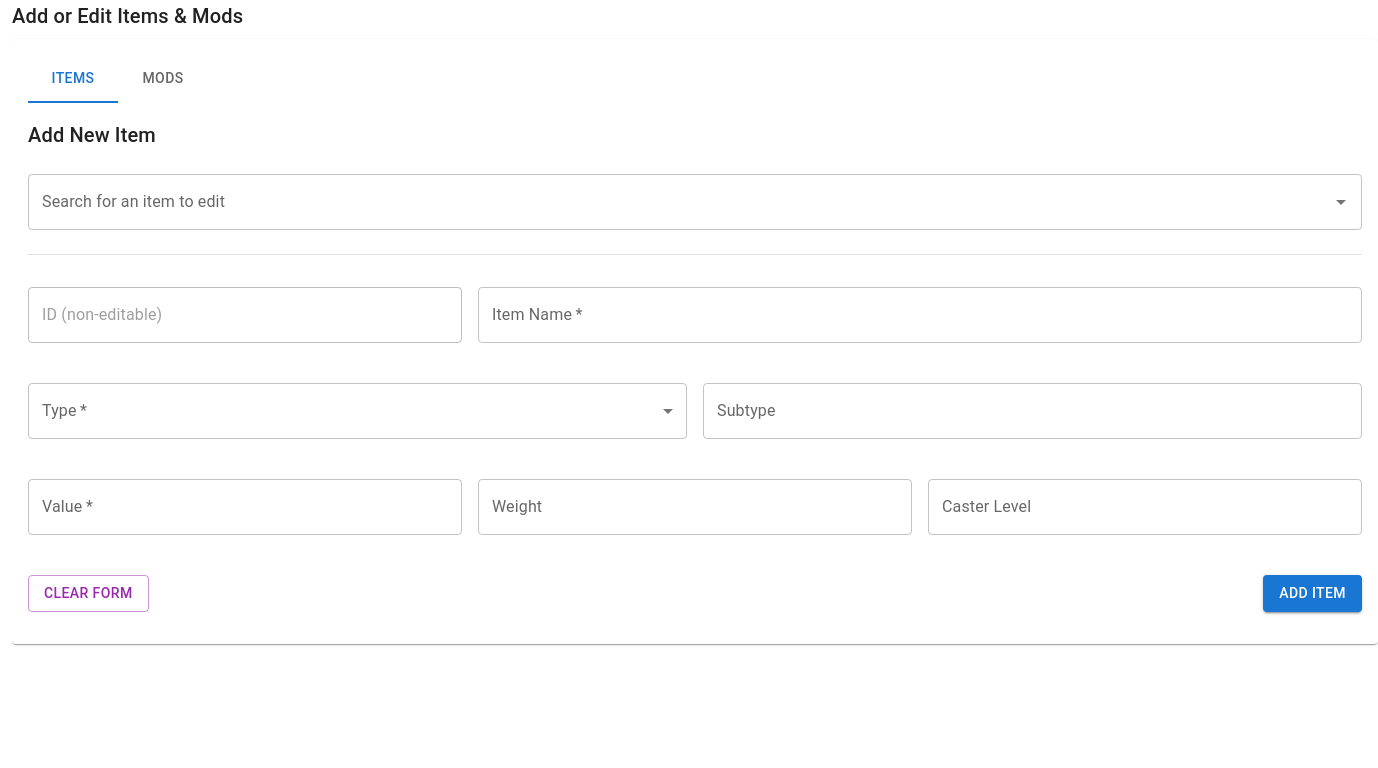
Test case: AddItemMod › Items tab - validation › shows "Item type is required" when type is blank
The image size is (1378, 768).
Expected: the heading "Add New Item" is shown, [28, 123, 156, 147]
Type "Brand New Sword" into the field labelled "Item Name *" at (920, 315), box [478, 287, 1362, 343]
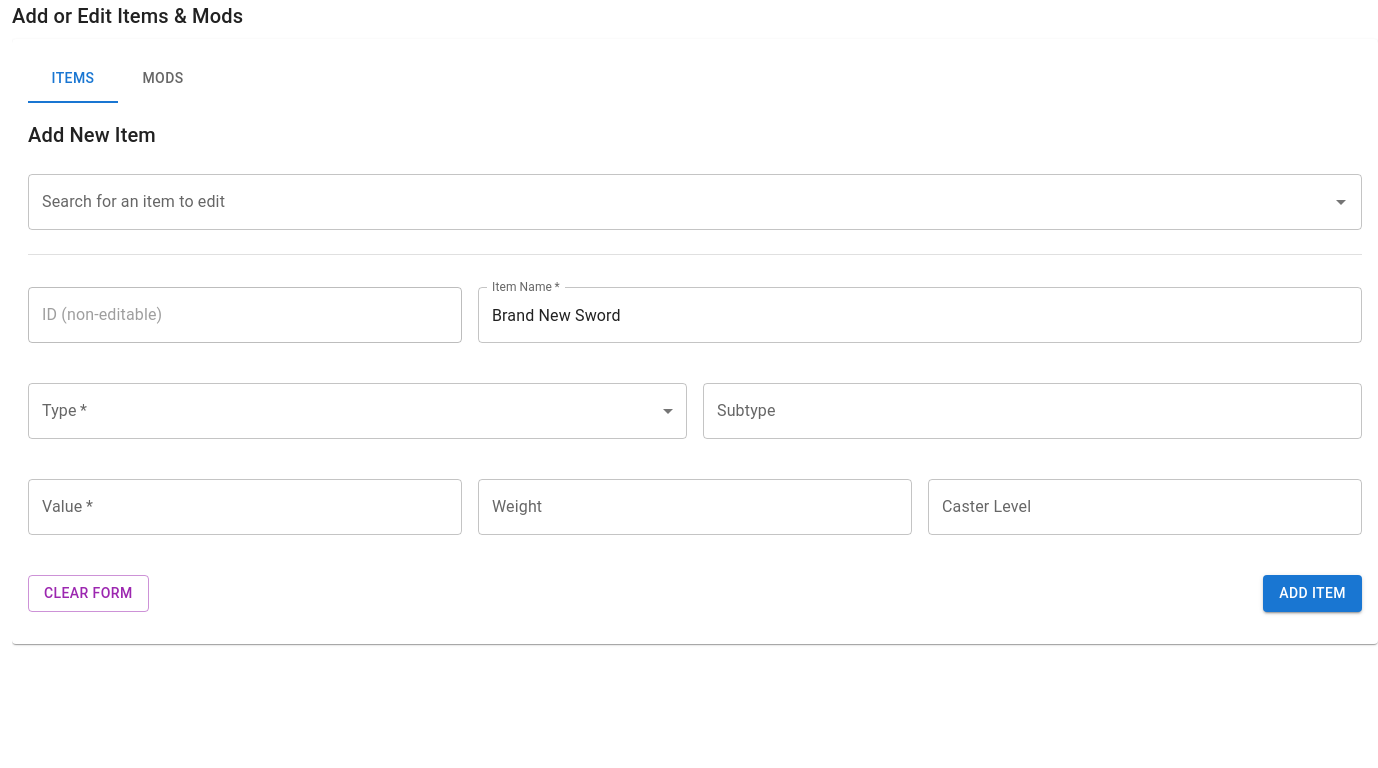
Click the button "Add Item" at (1313, 593), box [1263, 575, 1362, 612]
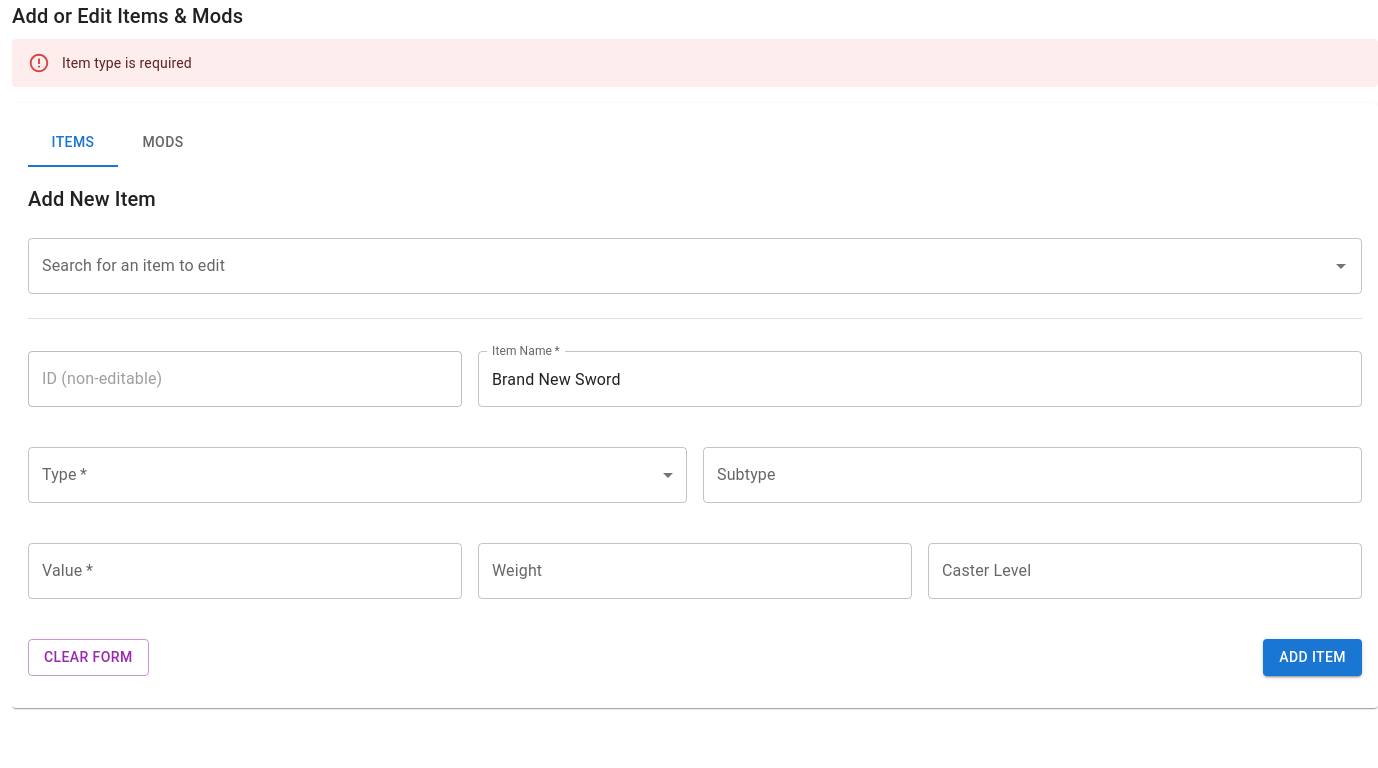
Expected: the text "Item type is required" is shown, [62, 55, 192, 71]
